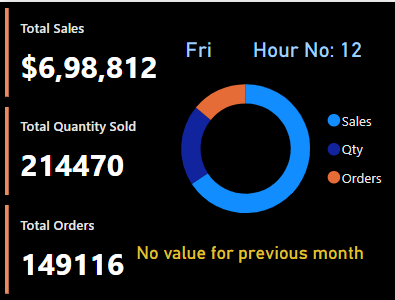

What the dashboard file says about the page in this screenshot:
{"tool":"powerbi","page":{"name":"Tool Tip - Day & Hour Chart","canvas":[320,240],"ordinal":2},"visuals":[{"type":"cardVisual","fields":{"Data":["Transactions.Total Sales","Transactions.Total Quantity Sold","Transactions.Total Orders"]},"box":[0,0,160,240],"z":0},{"type":"donutChart","fields":{"Y":["Transactions.Total Sales","Transactions.Total Quantity Sold","Transactions.Total Orders"]},"box":[128,38,192,159],"z":1000},{"type":"card","fields":{"Values":["Transactions.TT For Hour"]},"box":[187.1,11.4,120,54.3],"z":2000},{"type":"card","fields":{"Values":["Transactions.MoM Growth & Diff Sales"]},"box":[96.2,178.8,210,45],"z":3000},{"type":"card","fields":{"Values":["Min(Date Table.Day Name)"]},"box":[118.6,11.4,82.9,54.3],"z":4000}]}

Visuals, with their boxes in screenshot pixels (x1, y1, x2, y2), scaled from the page's 320x240 canvas onto the 395x300 screenshot:
cardVisual - Transactions.Total Sales x Transactions.Total Quantity Sold: (x1=0, y1=0, x2=198, y2=299)
donutChart - Transactions.Total Sales x Transactions.Total Quantity Sold: (x1=158, y1=48, x2=394, y2=246)
card - Transactions.TT For Hour: (x1=231, y1=14, x2=379, y2=82)
card - Transactions.MoM Growth & Diff Sales: (x1=119, y1=224, x2=378, y2=280)
card - Min(Date Table.Day Name): (x1=146, y1=14, x2=249, y2=82)
